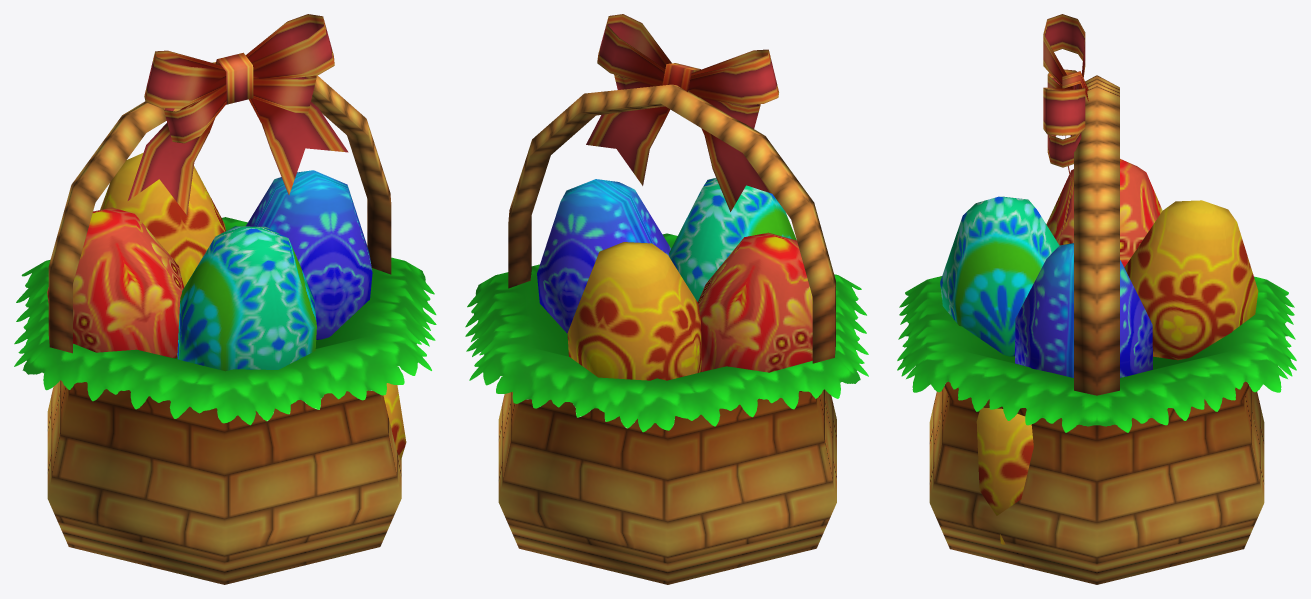
Rendered from EggBasket_01a.FBX.
3 views of the same model, side by side, from view 1: azimuth 30°, elevation 25°; view 2: azimuth 150°, elevation 25°; view 3: azimuth 270°, elevation 25° (orthographic). The views are drawn at different scales.
Parts seen in each view (by area): view 1: EggBasket_01a, 4Eggs, Line1489; view 2: EggBasket_01a, 4Eggs; view 3: EggBasket_01a, 4Eggs, Line1489.
Boxes of the visible parts, bbox=[...] form: EggBasket_01a: bbox=[14, 14, 436, 584]; 4Eggs: bbox=[47, 153, 372, 371]; Line1489: bbox=[383, 383, 406, 459]; EggBasket_01a: bbox=[465, 14, 868, 584]; 4Eggs: bbox=[537, 178, 812, 391]; EggBasket_01a: bbox=[897, 14, 1296, 584]; 4Eggs: bbox=[940, 159, 1258, 377]; Line1489: bbox=[976, 407, 1033, 544].
Size of the model in its own units: 0.8536 by 0.9719 by 0.7392.
